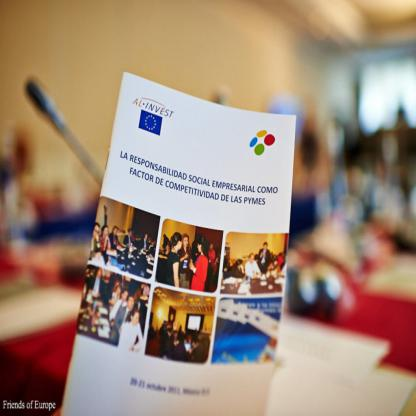book: (53, 67, 298, 416)
